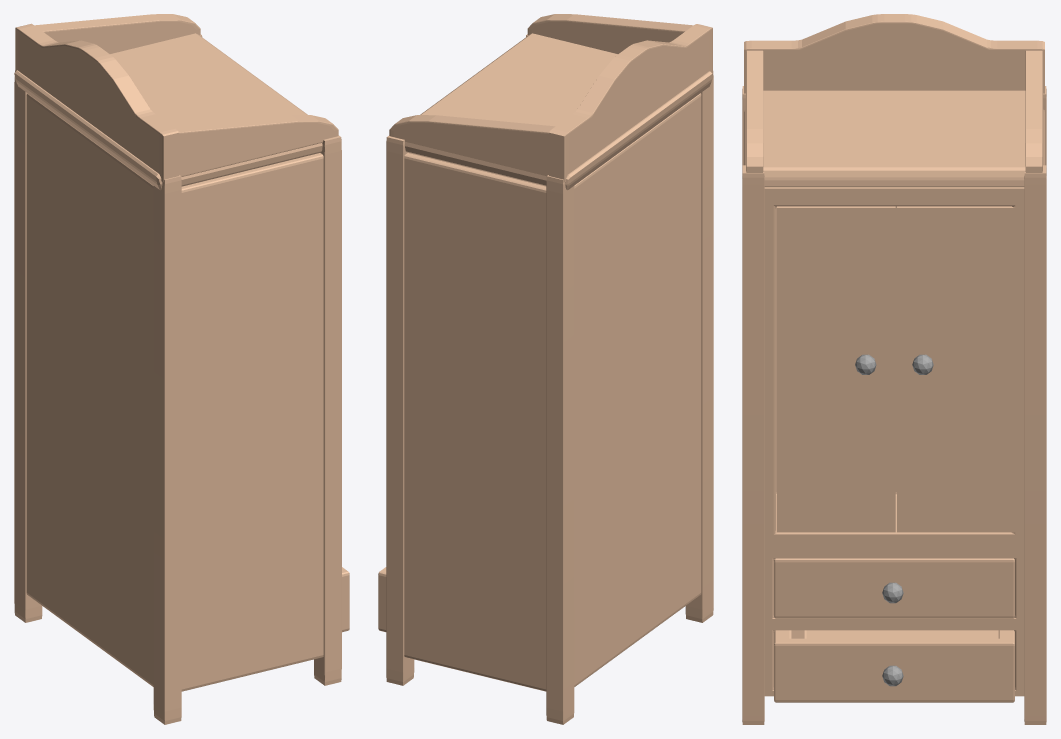
Rendered from wardrobe-doors.fbx.
3 views of the same model, side by side, from view 1: azimuth 30°, elevation 25°; view 2: azimuth 150°, elevation 25°; view 3: azimuth 270°, elevation 25° (orthographic).
Visible parts, largest first — view 1: Wardrobe; view 2: Wardrobe; view 3: Wardrobe, wardrobe-door-L, wardrobe-door-R.
Boxes of the visible parts, x1=… form: Wardrobe: x1=14, y1=14, x2=349, y2=724; Wardrobe: x1=378, y1=14, x2=713, y2=724; Wardrobe: x1=742, y1=14, x2=1046, y2=724; wardrobe-door-L: x1=777, y1=206, x2=895, y2=532; wardrobe-door-R: x1=897, y1=206, x2=1015, y2=532.
Size of the model in its own units: 191 by 511 by 226.
